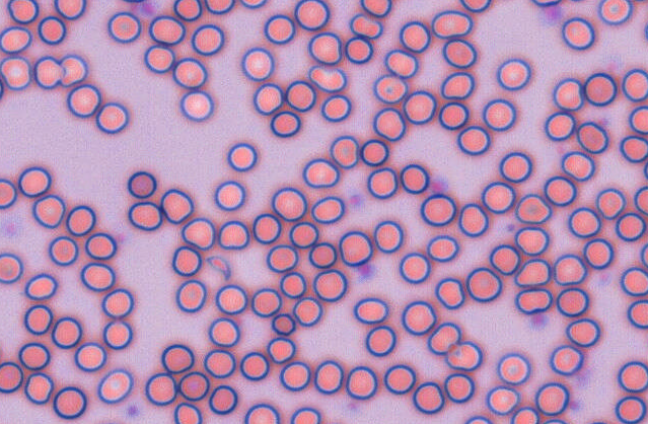PLT: (540, 5, 563, 25), (428, 174, 448, 193), (347, 191, 363, 210), (531, 312, 547, 329), (357, 264, 376, 278), (125, 402, 140, 417)
RBC: (465, 267, 502, 302), (97, 368, 133, 403), (271, 186, 307, 221), (401, 300, 436, 335), (338, 230, 372, 266), (431, 9, 473, 38), (307, 31, 342, 65), (66, 83, 101, 117), (420, 193, 456, 226), (583, 72, 617, 106), (160, 188, 193, 223), (445, 340, 482, 371), (514, 193, 551, 224), (427, 321, 461, 354), (372, 107, 405, 141), (32, 194, 65, 228), (181, 217, 215, 250), (52, 386, 86, 419), (403, 90, 436, 124), (241, 47, 274, 81), (535, 382, 569, 415), (482, 98, 516, 131), (561, 16, 594, 50), (312, 269, 347, 301), (496, 58, 531, 90), (148, 15, 185, 45), (302, 158, 339, 188), (144, 372, 177, 405), (481, 181, 515, 213), (553, 253, 587, 285), (345, 365, 377, 399), (107, 11, 141, 43), (496, 352, 530, 384), (552, 77, 584, 111), (0, 55, 31, 90), (172, 57, 207, 88), (191, 23, 224, 55), (412, 381, 444, 414), (17, 166, 51, 197), (549, 344, 583, 375), (561, 150, 595, 181), (179, 90, 213, 121), (485, 385, 520, 415), (565, 317, 600, 347), (458, 202, 488, 237), (294, 0, 329, 30), (514, 258, 551, 286), (514, 287, 552, 314), (576, 121, 608, 153), (253, 82, 284, 115), (568, 206, 601, 237), (398, 252, 431, 283), (175, 279, 206, 312), (543, 175, 576, 206), (499, 151, 532, 182), (95, 102, 128, 133), (160, 343, 194, 373), (384, 48, 418, 78), (456, 125, 490, 155), (442, 38, 476, 68), (514, 226, 549, 255), (80, 262, 115, 291), (127, 201, 162, 230), (372, 74, 407, 103), (314, 359, 343, 394), (285, 79, 316, 111), (51, 316, 82, 348), (434, 277, 465, 309), (366, 167, 398, 198), (595, 187, 626, 219), (399, 20, 430, 52), (33, 55, 63, 88), (101, 288, 134, 318), (556, 287, 589, 317), (373, 220, 403, 253), (329, 135, 359, 168), (365, 325, 396, 356), (489, 244, 520, 275), (171, 245, 202, 276), (203, 348, 235, 378), (383, 364, 415, 394), (74, 341, 106, 371), (208, 317, 240, 347), (65, 204, 95, 236), (263, 14, 295, 44), (215, 284, 247, 314), (617, 360, 647, 392), (310, 195, 344, 223), (353, 297, 388, 324), (23, 304, 53, 335), (443, 373, 474, 403), (279, 361, 310, 391), (583, 238, 613, 269), (214, 180, 245, 210), (24, 372, 53, 404), (18, 341, 50, 370), (292, 296, 322, 326), (399, 163, 429, 193), (48, 235, 78, 265), (102, 319, 132, 349), (251, 287, 281, 317), (178, 371, 209, 400), (218, 220, 249, 249), (544, 111, 575, 140), (614, 395, 646, 423), (266, 244, 298, 272), (84, 232, 117, 259), (24, 273, 57, 300), (615, 212, 645, 241), (208, 384, 237, 414), (239, 351, 269, 380), (252, 213, 281, 243), (144, 44, 174, 73), (227, 142, 257, 171), (426, 234, 458, 261), (621, 68, 647, 101), (37, 15, 66, 44), (438, 101, 468, 129), (0, 26, 31, 53), (320, 94, 351, 121), (598, 0, 632, 24), (127, 170, 156, 198), (270, 110, 300, 137), (620, 266, 647, 296), (360, 138, 388, 166), (308, 241, 337, 268), (289, 221, 318, 248), (266, 336, 295, 363), (344, 36, 373, 63), (619, 135, 647, 162), (0, 361, 23, 393), (279, 271, 306, 298), (7, 0, 38, 23), (0, 252, 23, 283), (244, 403, 279, 423), (173, 402, 202, 423), (173, 0, 202, 21), (54, 0, 86, 19), (627, 299, 647, 328), (628, 105, 647, 134), (271, 313, 295, 335), (360, 0, 391, 17), (290, 406, 321, 423), (0, 178, 17, 208), (510, 406, 539, 423), (204, 0, 234, 14), (634, 185, 647, 215), (459, 0, 491, 12), (464, 415, 492, 423), (239, 0, 267, 8), (531, 0, 560, 7), (640, 242, 647, 268), (542, 418, 567, 423), (643, 160, 648, 180), (0, 78, 4, 100), (587, 420, 609, 424), (644, 22, 648, 41), (121, 0, 145, 3), (0, 339, 3, 362), (568, 0, 589, 2)
Schistocyte: (309, 65, 348, 92), (441, 70, 474, 100), (60, 54, 88, 88), (202, 254, 233, 284), (351, 14, 383, 39)
